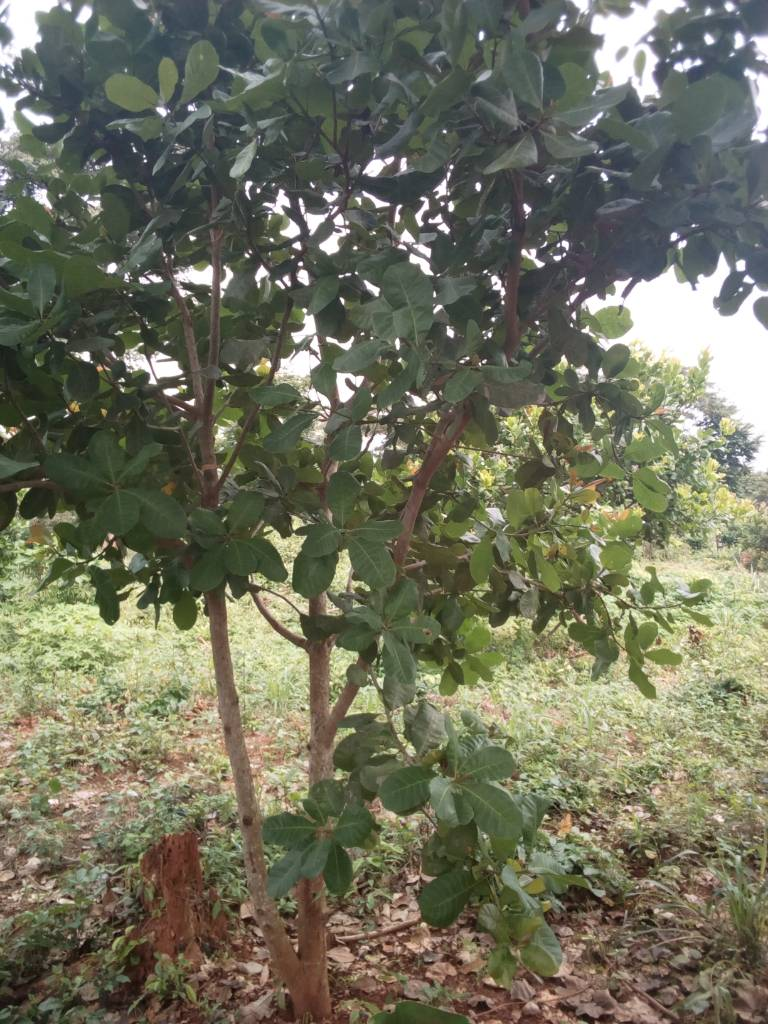Termites: (144, 833, 200, 944)
